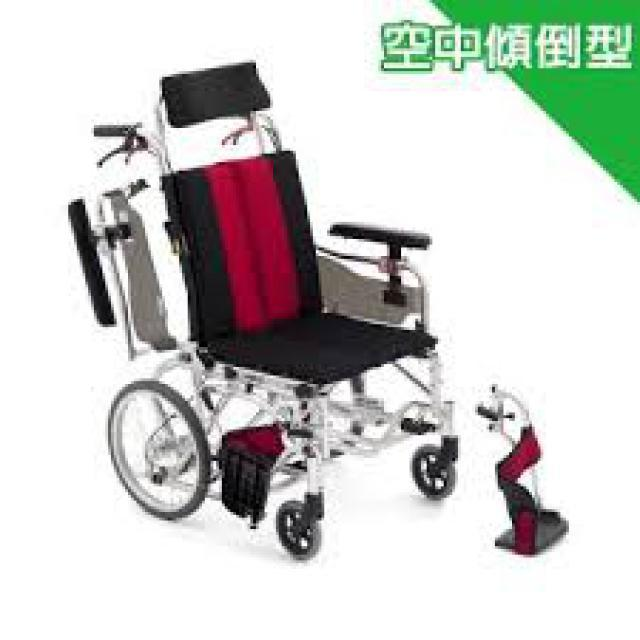wheelchair: (65, 49, 458, 558)
